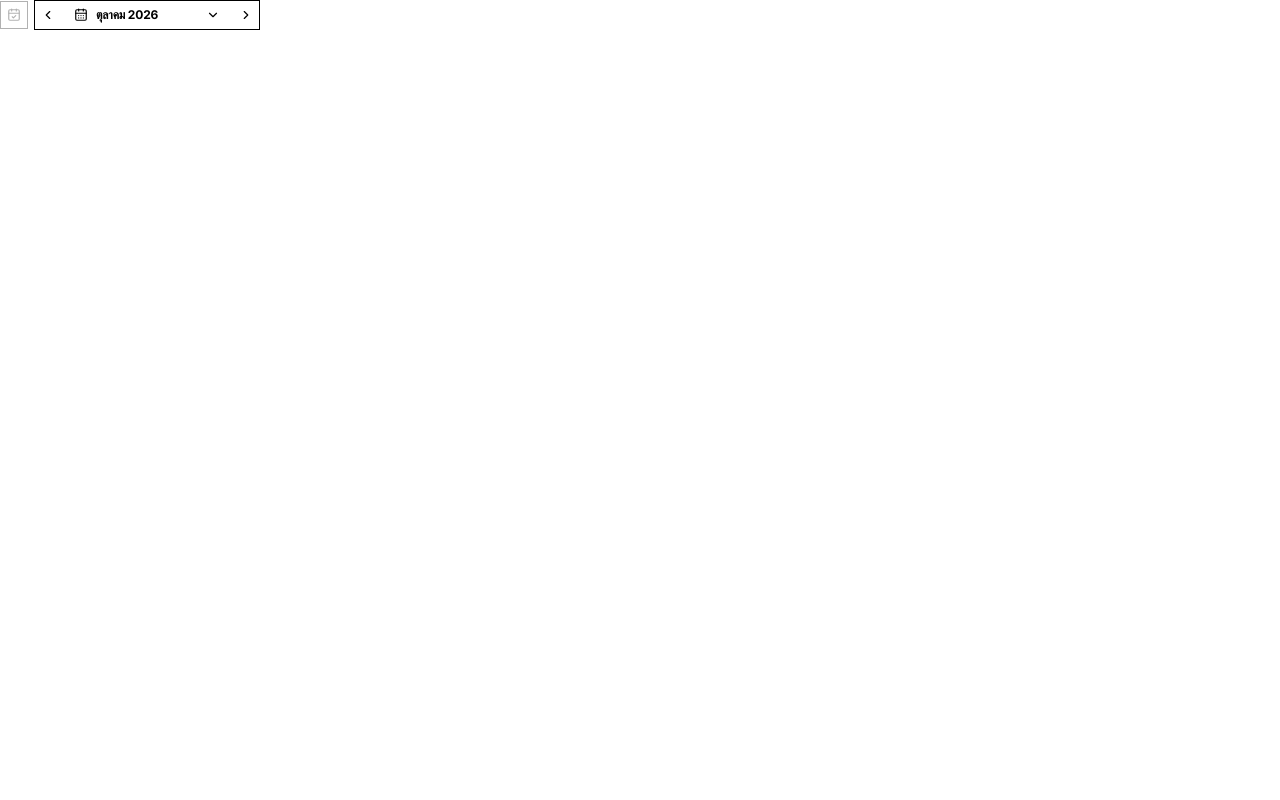
Test case: PeriodPicker — เดี่ยว (single) mode › opens on เดี่ยว with the ด่วน row and the ดูข้อมูลทั้งหมด row
Click the button "ตุลาคม 2026" at (147, 15), box [62,1,232,29]
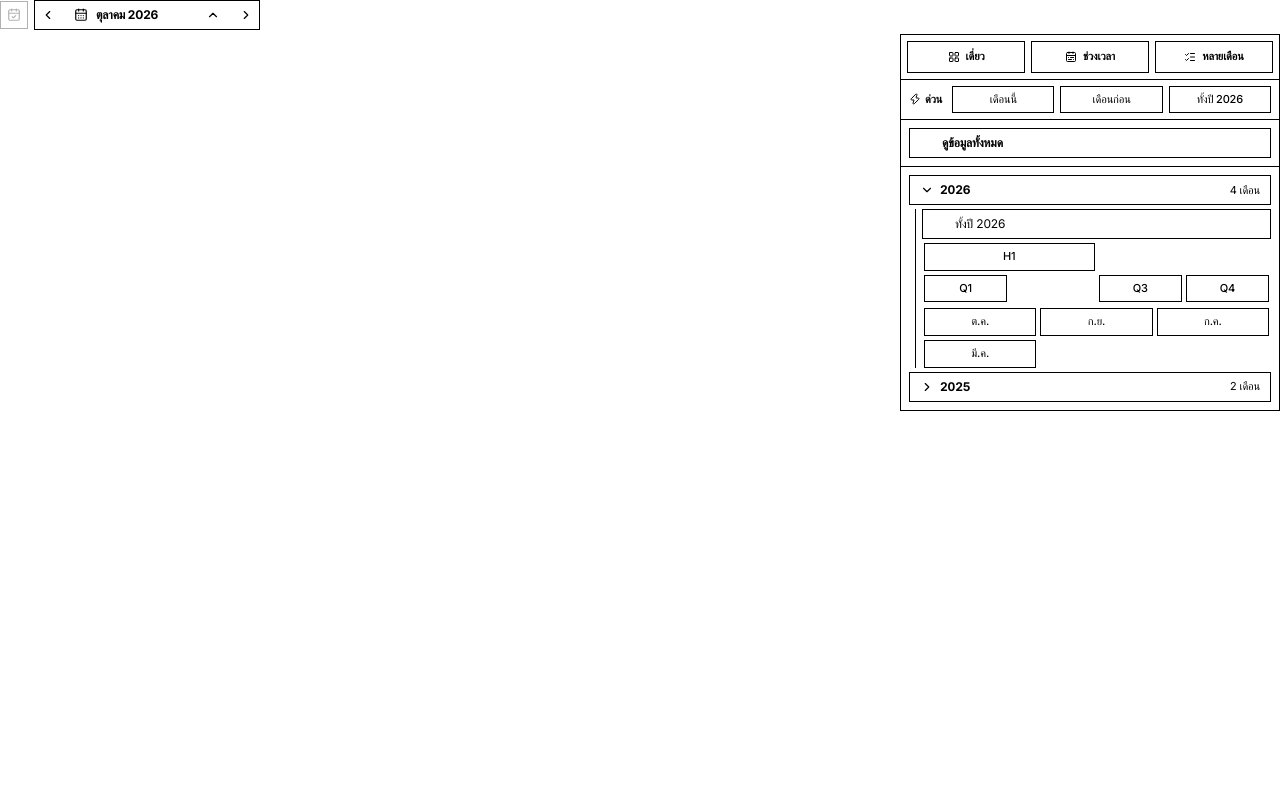
Now the dialog shows "ด่วน", box [925,92,942,106]
Now the button "ดูข้อมูลทั้งหมด" is shown, box [909,128,1271,158]
